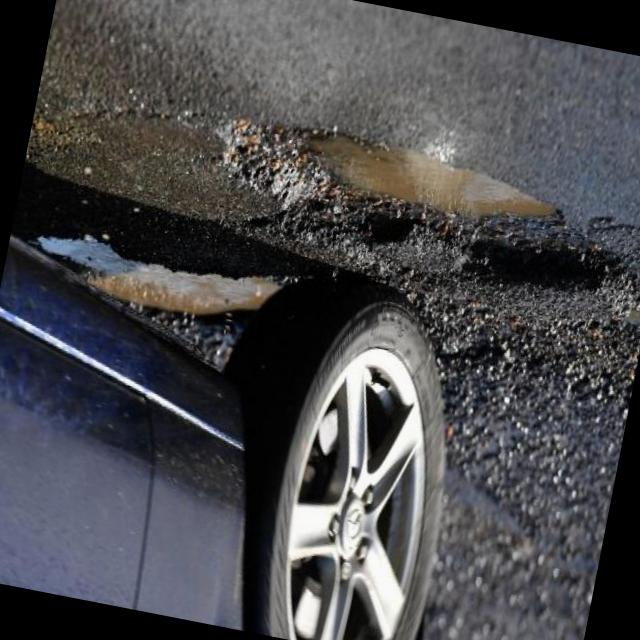pothole: (194, 98, 640, 323)
